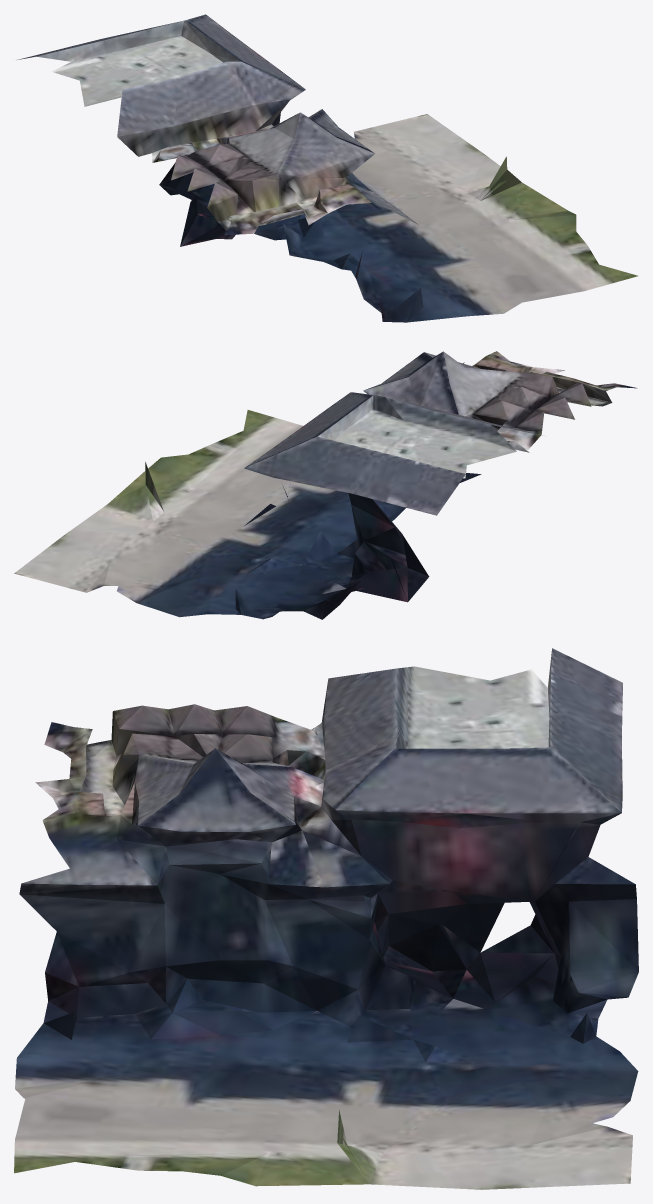
The model's file is Tile_+001_+000_L17_00.glb.
3 renders of one model, top to bottom at view 1: azimuth 30°, elevation 25°; view 2: azimuth 150°, elevation 25°; view 3: azimuth 270°, elevation 25°, orthographic. The views are drawn at different scales.
Size of the model in its own units: 60.2 by 25.14 by 54.95.
1 material, 1 textured.
